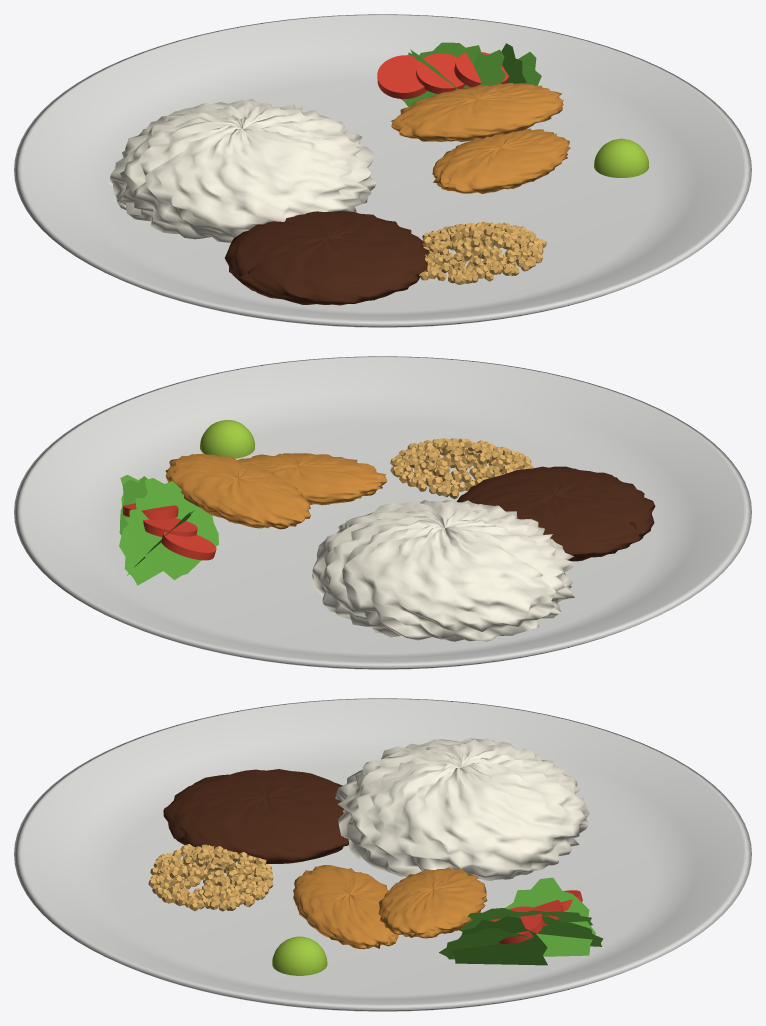
File: prato-3d.glb
3 renders of one model, top to bottom at view 1: azimuth 30°, elevation 25°; view 2: azimuth 150°, elevation 25°; view 3: azimuth 270°, elevation 25°, orthographic.
Visible parts, largest first — view 1: Prato, Arroz, Feijao, File2, File1, Farofa, Tomate, Alface, Limao; view 2: Prato, Arroz, Feijao, File2, Alface, Farofa, File1, Tomate, Limao; view 3: Prato, Arroz, Feijao, Alface, Farofa, File1, File2, Limao, Tomate.
Boxes of the visible parts, box(x1,y1,x2,y2) form: Prato: box(14, 14, 751, 327); Arroz: box(108, 99, 376, 242); Feijao: box(225, 211, 428, 305); File2: box(391, 83, 563, 141); File1: box(432, 128, 570, 193); Farofa: box(419, 221, 546, 284); Tomate: box(377, 52, 508, 98); Alface: box(401, 42, 541, 106); Limao: box(594, 138, 648, 177); Prato: box(14, 356, 751, 669); Arroz: box(311, 500, 575, 641); Feijao: box(456, 466, 655, 561); File2: box(165, 453, 310, 529); Alface: box(119, 475, 218, 585); Farofa: box(390, 438, 533, 499); File1: box(237, 453, 387, 505); Tomate: box(123, 503, 216, 560); Limao: box(200, 420, 254, 458); Prato: box(14, 698, 751, 1011); Arroz: box(335, 738, 589, 880); Feijao: box(163, 769, 348, 863); Alface: box(439, 877, 603, 965); Farofa: box(148, 844, 273, 911); File1: box(293, 865, 398, 949); File2: box(378, 867, 487, 938); Limao: box(272, 936, 327, 975); Tomate: box(491, 890, 582, 944).
Size of the model in its own units: 0.26 by 0.0404 by 0.26.
